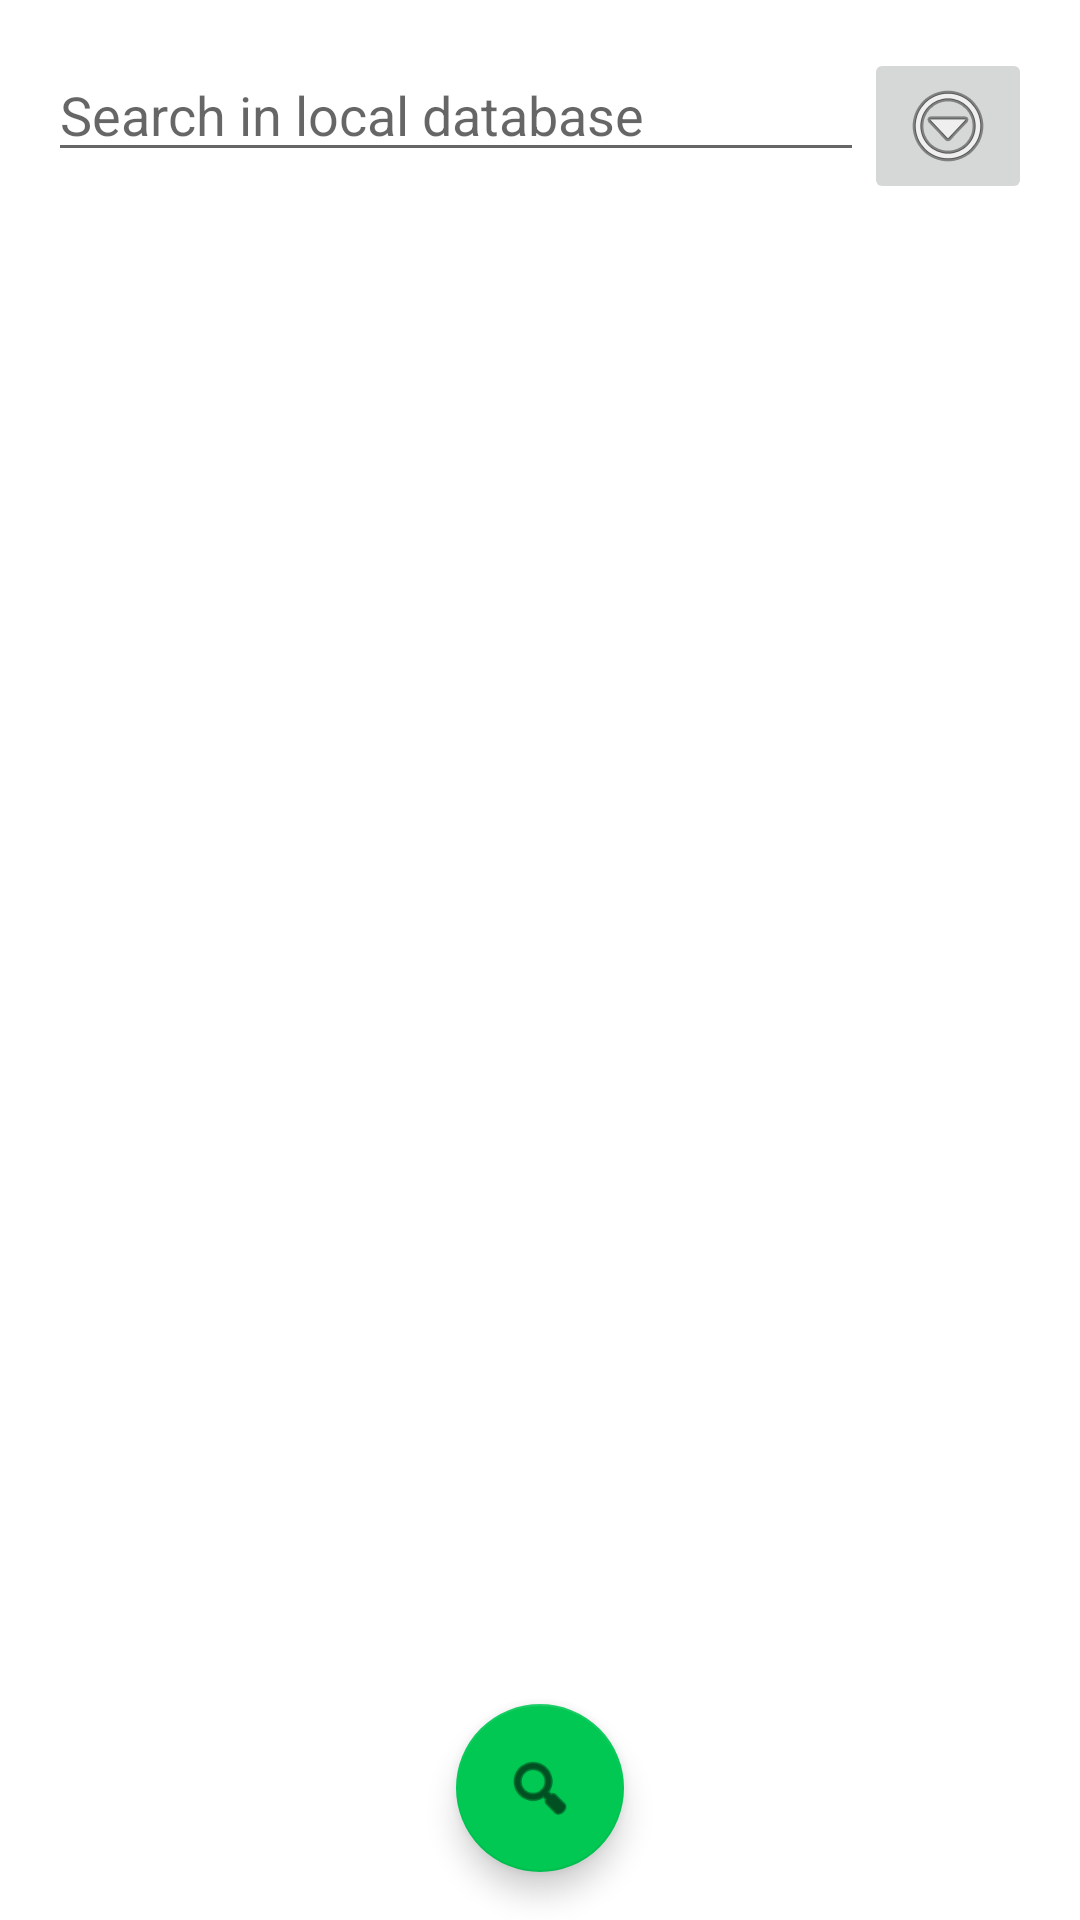

Named icons in this screenshot (1080*1920) and their bounding boxes, bbox=(x1, y1, x2, y2):
Database management menu: bbox=(876, 66, 1020, 186)
search: bbox=(456, 1704, 624, 1872)
